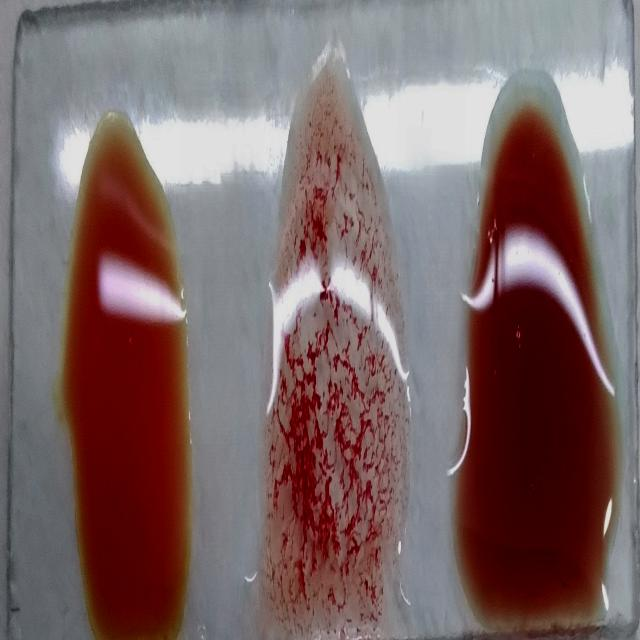D: (262, 35, 394, 640)
